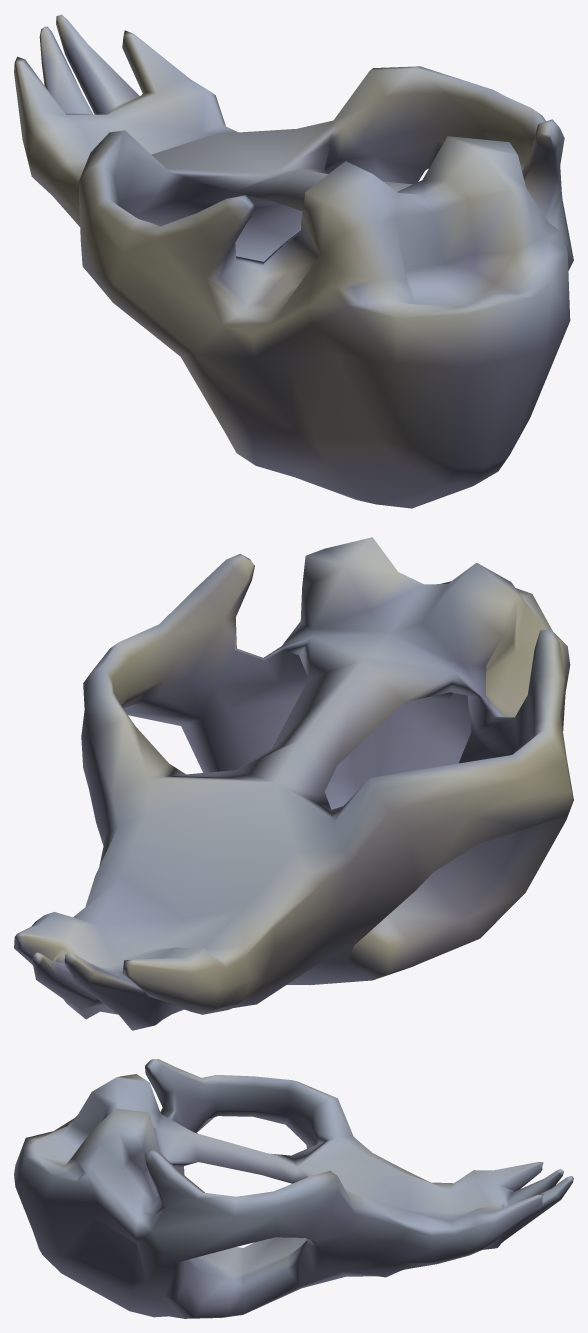
File: skull_sled_a_prefab.glb
The picture shows the model from 3 angles, top to bottom: view 1: azimuth 30°, elevation 25°; view 2: azimuth 150°, elevation 25°; view 3: azimuth 270°, elevation 25°; orthographic projection. The views are drawn at different scales.
Parts seen in each view (by area): view 1: skull_sled_a; view 2: skull_sled_a; view 3: skull_sled_a.
Part boxes in pixels (left/top/right/bottom): skull_sled_a: left=14, top=14, right=573, bottom=508; skull_sled_a: left=14, top=537, right=573, bottom=1030; skull_sled_a: left=14, top=1059, right=573, bottom=1318.
Size of the model in its own units: 0.7105 by 0.537 by 1.24.
